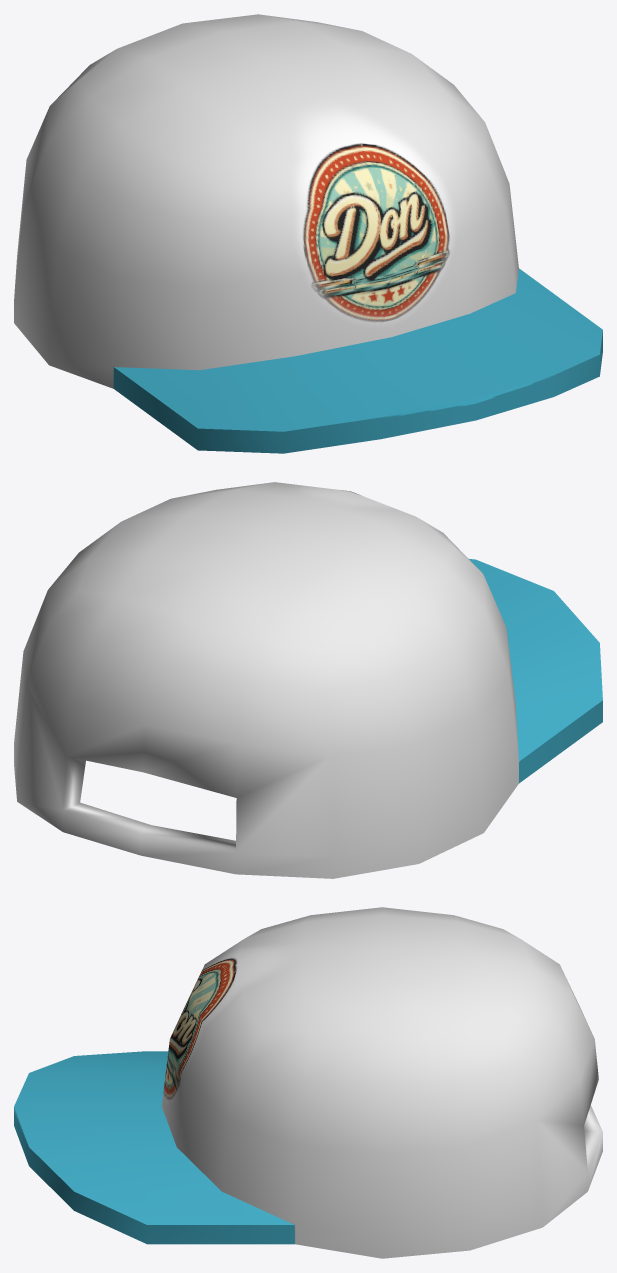
Rendered from Cap.glb.
The picture shows the model from 3 angles, top to bottom: view 1: azimuth 30°, elevation 25°; view 2: azimuth 150°, elevation 25°; view 3: azimuth 270°, elevation 25°; orthographic projection. The views are drawn at different scales.
Parts seen in each view (by area): view 1: Cap; view 2: Cap; view 3: Cap.
Boxes of the visible parts, x1,y1,x2,y2 form: Cap: (14,14,602,453); Cap: (14,482,602,878); Cap: (14,907,602,1258).
Size of the model in its own units: 1.91 by 1.06 by 2.55.
Materials: 1 (1 with a texture image).
